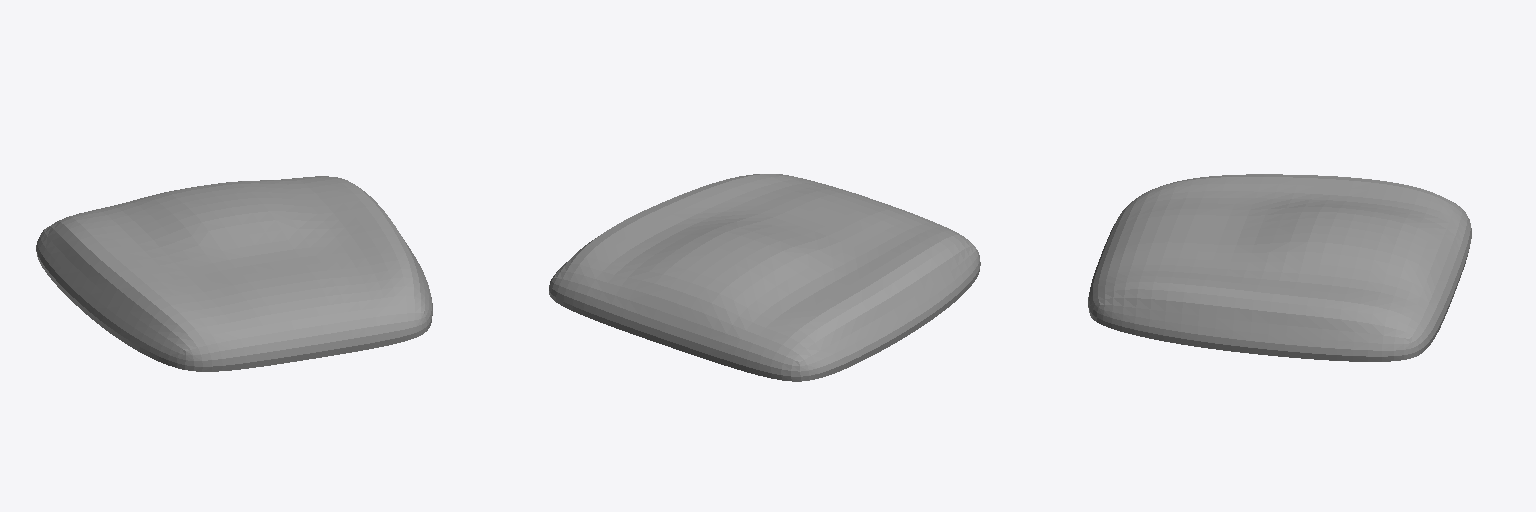
The model's file is chair_seat.obj.
The picture shows the model from 3 angles: view 1: azimuth 30°, elevation 25°; view 2: azimuth 150°, elevation 25°; view 3: azimuth 270°, elevation 25°; orthographic projection.
Parts seen in each view (by area): view 1: Box026; view 2: Box026; view 3: Box026.
Part boxes in pixels (x1,y1,x2,y2): Box026: (36, 176, 432, 371); Box026: (549, 174, 980, 381); Box026: (1088, 174, 1471, 361).
Bounding box in the file's own units: 0.5454 × 0.096 × 0.5685.